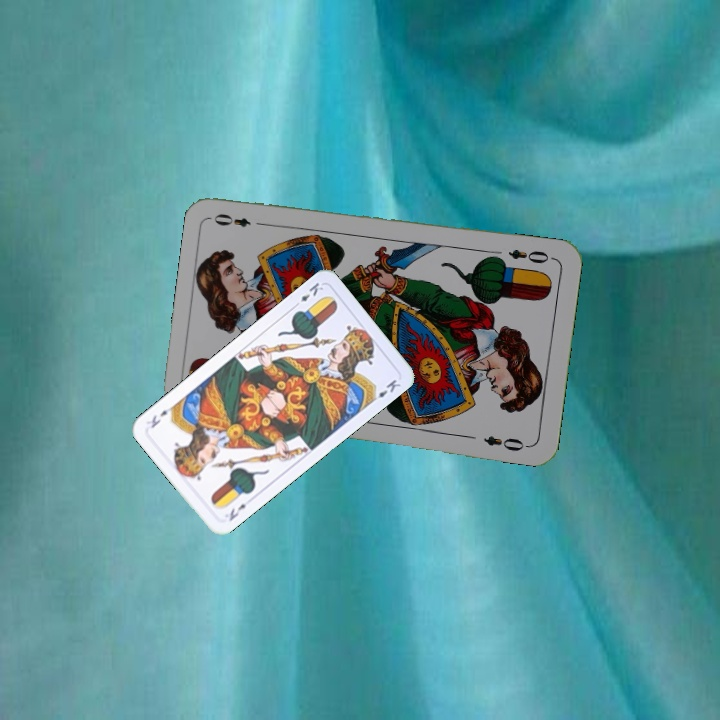EK: (290, 278, 326, 310), (225, 499, 249, 524)
EO: (504, 244, 557, 266)
